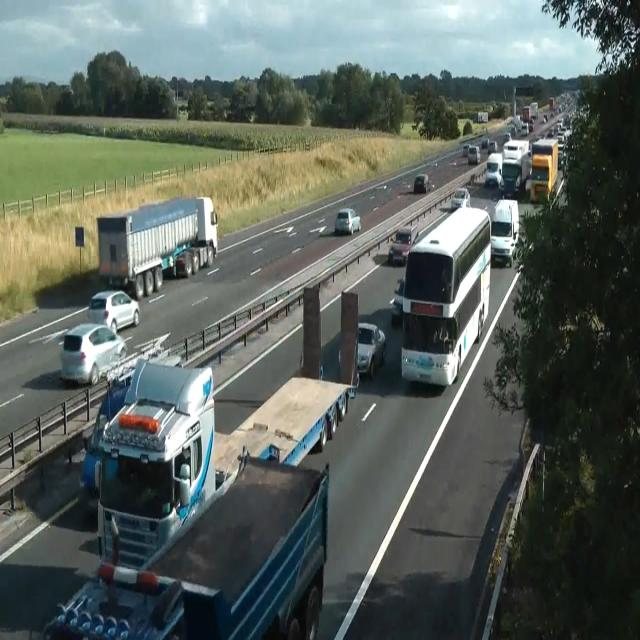bus: (86, 289, 140, 333), (356, 322, 386, 378), (388, 224, 418, 266), (389, 276, 405, 324), (334, 207, 361, 235), (451, 187, 471, 210), (413, 173, 431, 194), (488, 140, 498, 154), (462, 143, 470, 157), (481, 138, 489, 148), (543, 114, 547, 122)
car: (42, 356, 330, 638), (80, 356, 216, 574), (400, 204, 492, 386)
jeep: (59, 322, 127, 386), (489, 197, 519, 267), (484, 151, 502, 187), (467, 145, 480, 164)
minibus: (96, 194, 218, 300), (528, 138, 558, 204), (501, 138, 532, 194), (477, 111, 487, 123), (549, 97, 554, 109)
